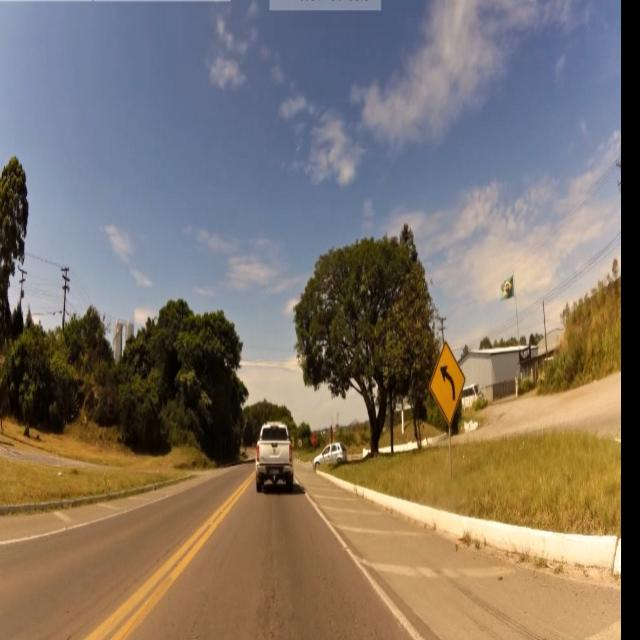A-2a: (429, 339, 468, 426)
